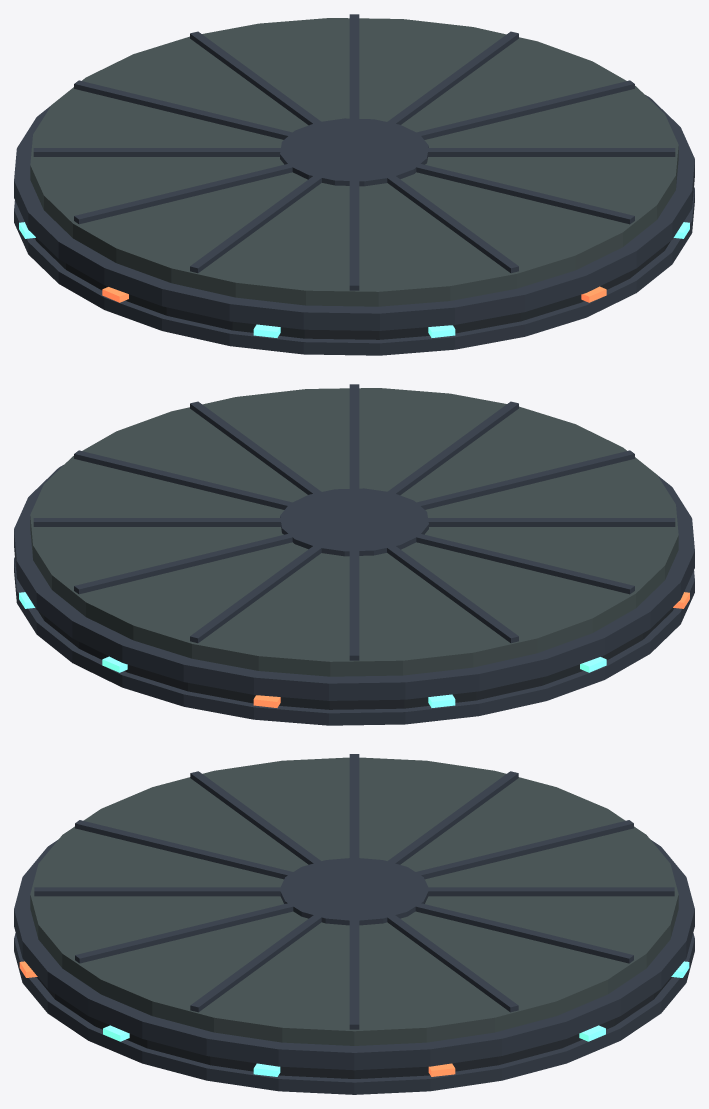
Rendered from Lab_Platform.fbx.
3 renders of one model, top to bottom at view 1: azimuth 30°, elevation 25°; view 2: azimuth 150°, elevation 25°; view 3: azimuth 270°, elevation 25°, orthographic.
Parts seen in each view (by area): view 1: Lab_Platform; view 2: Lab_Platform; view 3: Lab_Platform.
Part boxes in pixels (box(x1,y1,x2,y2)): Lab_Platform: box(14, 14, 694, 355); Lab_Platform: box(14, 384, 694, 725); Lab_Platform: box(14, 754, 694, 1094).
Bounding box in the file's own units: 5 × 0.5 × 5.
